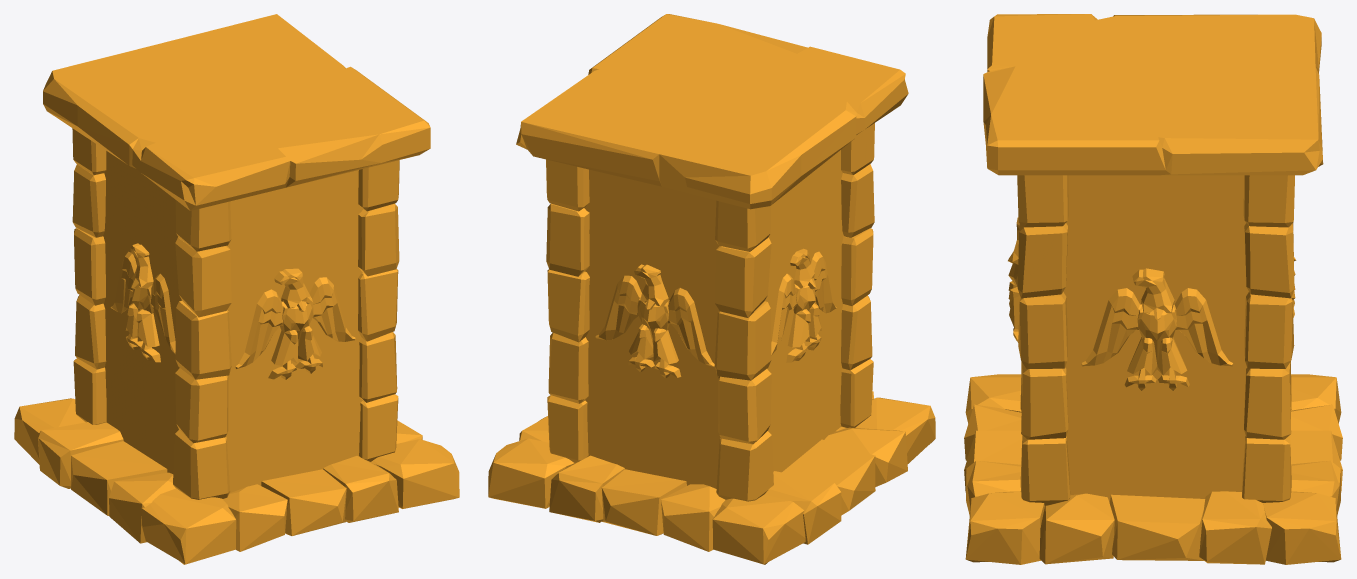
The model's file is SM_Pedestal_Rugged_B_Fantasy.fbx.
3 renders of one model, left to right at view 1: azimuth 30°, elevation 25°; view 2: azimuth 150°, elevation 25°; view 3: azimuth 270°, elevation 25°, orthographic. The views are drawn at different scales.
Parts seen in each view (by area): view 1: SM_Pedestal_Rugged_Fantasy_B; view 2: SM_Pedestal_Rugged_Fantasy_B; view 3: SM_Pedestal_Rugged_Fantasy_B.
Part boxes in pixels (box(x1,y1,x2,y2)): SM_Pedestal_Rugged_Fantasy_B: box(14, 14, 459, 564); SM_Pedestal_Rugged_Fantasy_B: box(488, 14, 935, 564); SM_Pedestal_Rugged_Fantasy_B: box(964, 14, 1342, 564).
Bounding box in the file's own units: 1 × 1.2 × 1.
